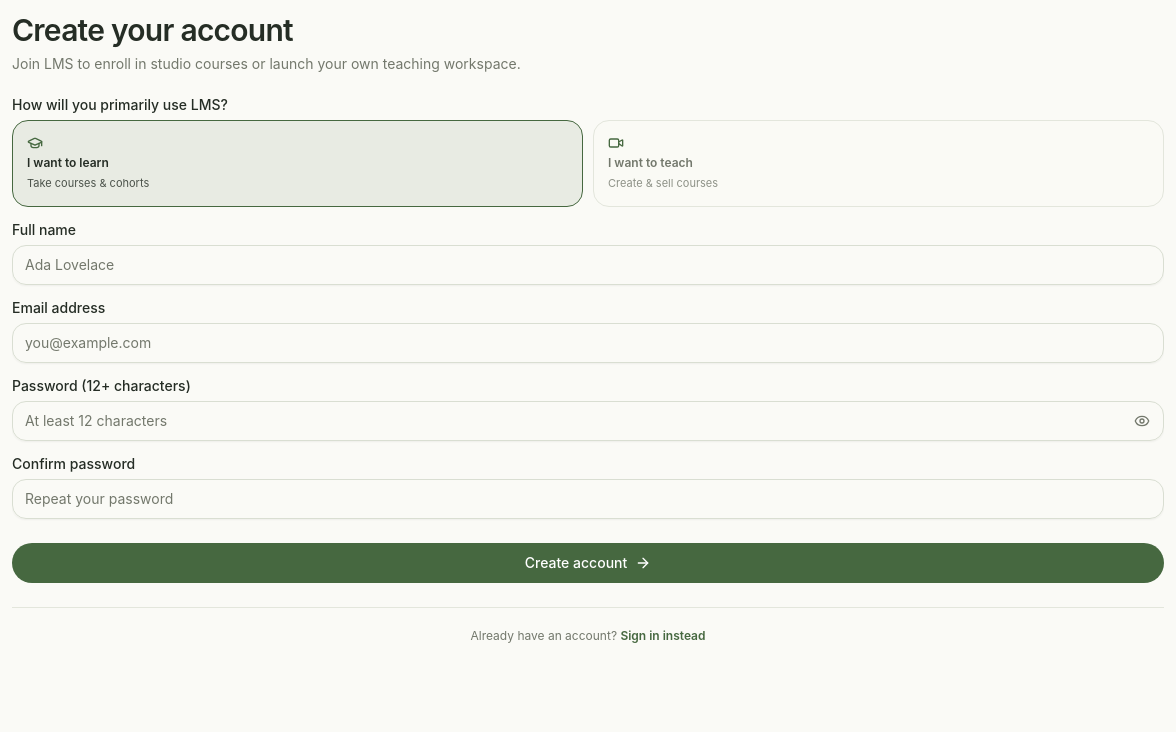
Test: Auth forms (Zod validation + TanStack Query mutations) › renders AuthErrorBanner on 400 validation error without navigating or confirming
Type "Alex Mercer" into the field labelled "Full name" at (588, 264), box left=12, top=244, right=1164, bottom=284
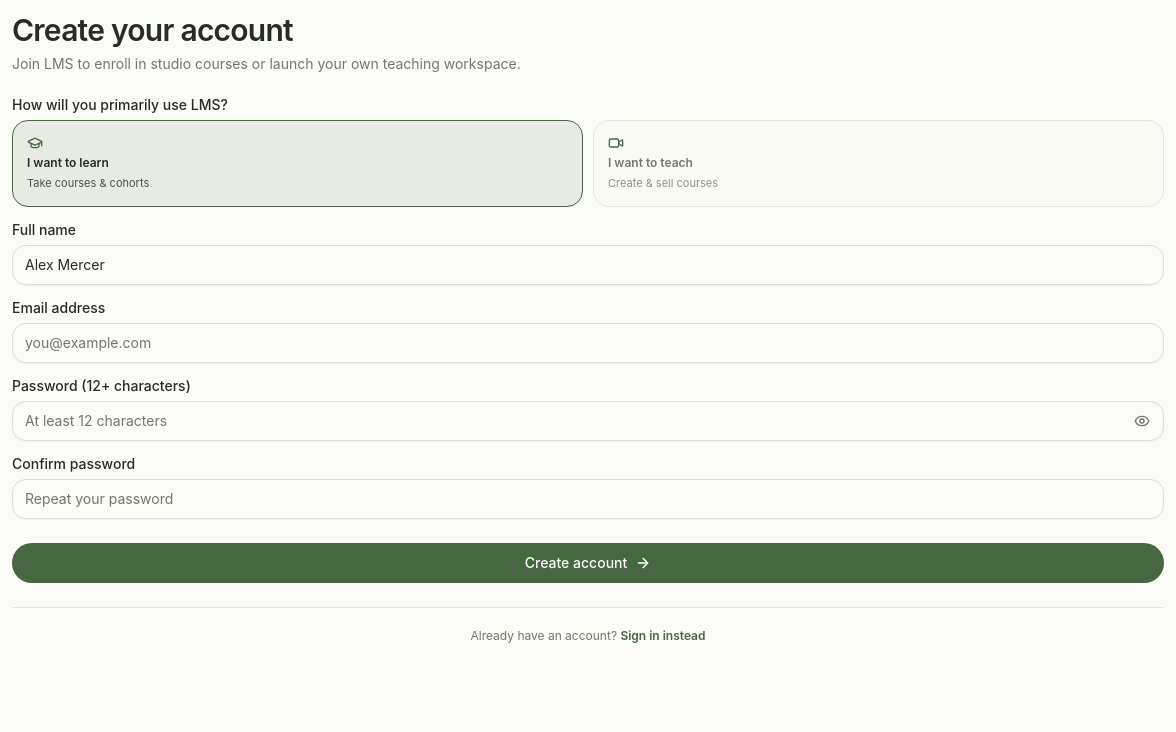
Type "alex@example.com" into the field labelled "Email address" at (588, 342), box left=12, top=322, right=1164, bottom=362
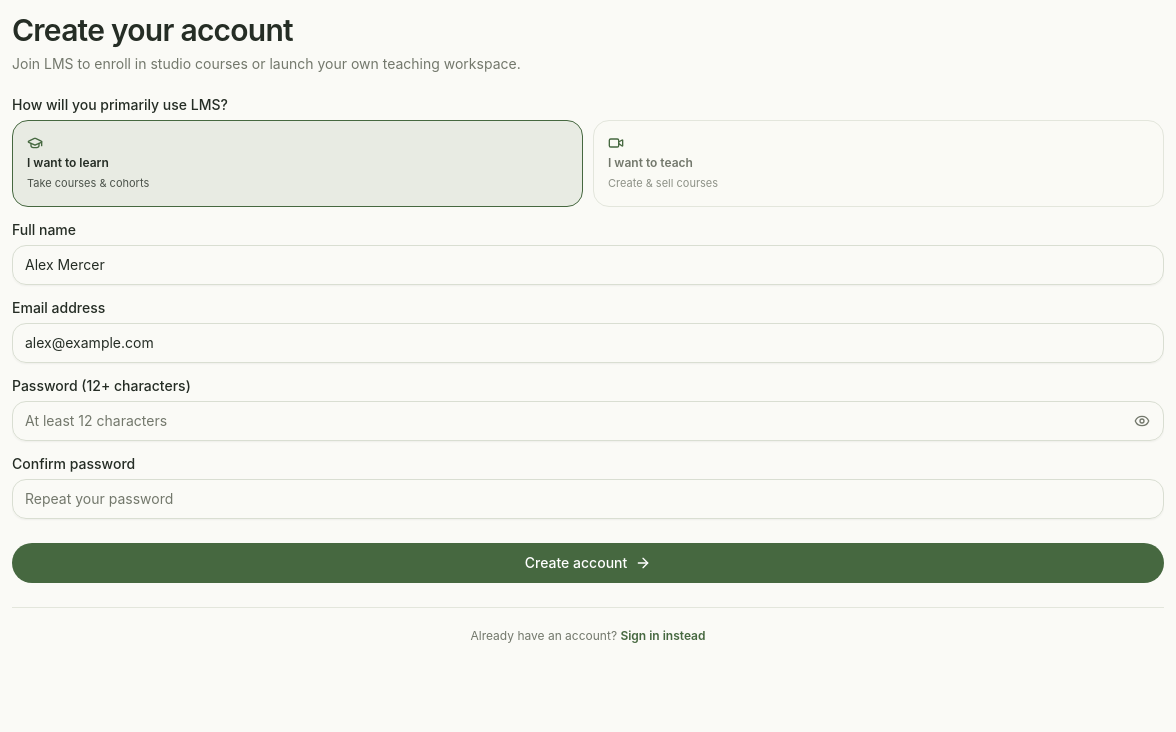
Type "super-secure-passphrase-2026" into the password field labelled "Password (12+ characters)" at (588, 420), box left=12, top=400, right=1164, bottom=440
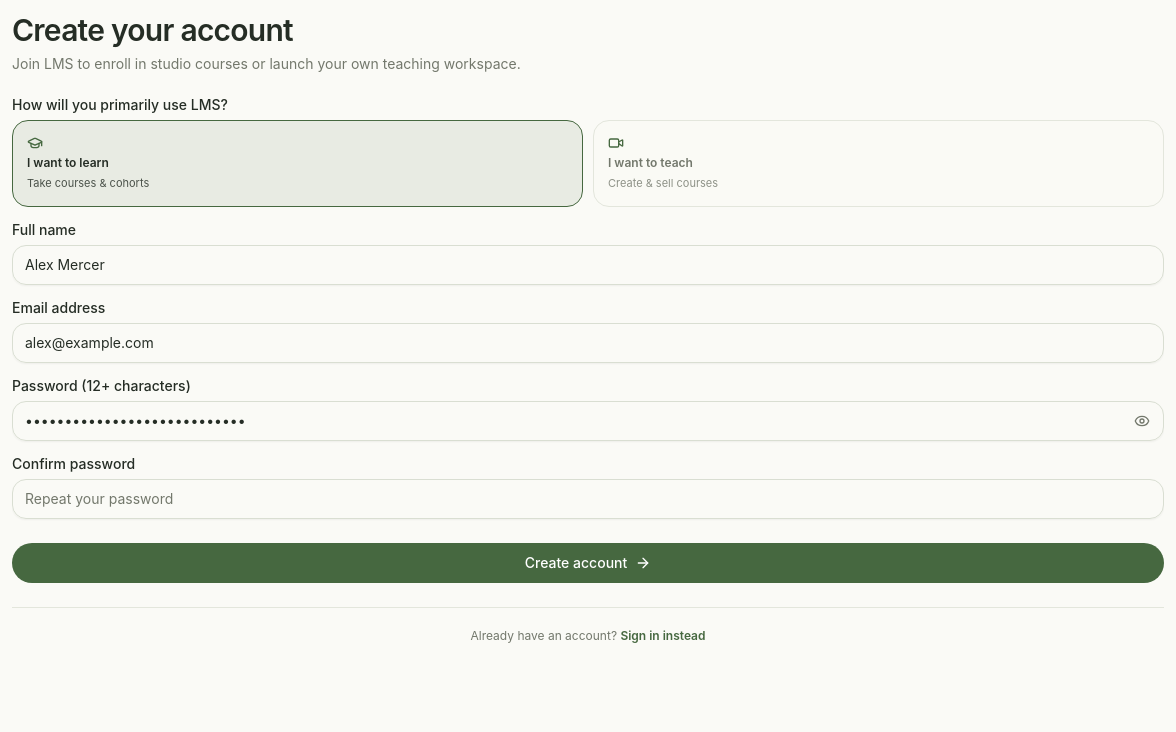
Type "super-secure-passphrase-2026" into the password field labelled "Confirm password" at (588, 498), box left=12, top=478, right=1164, bottom=518
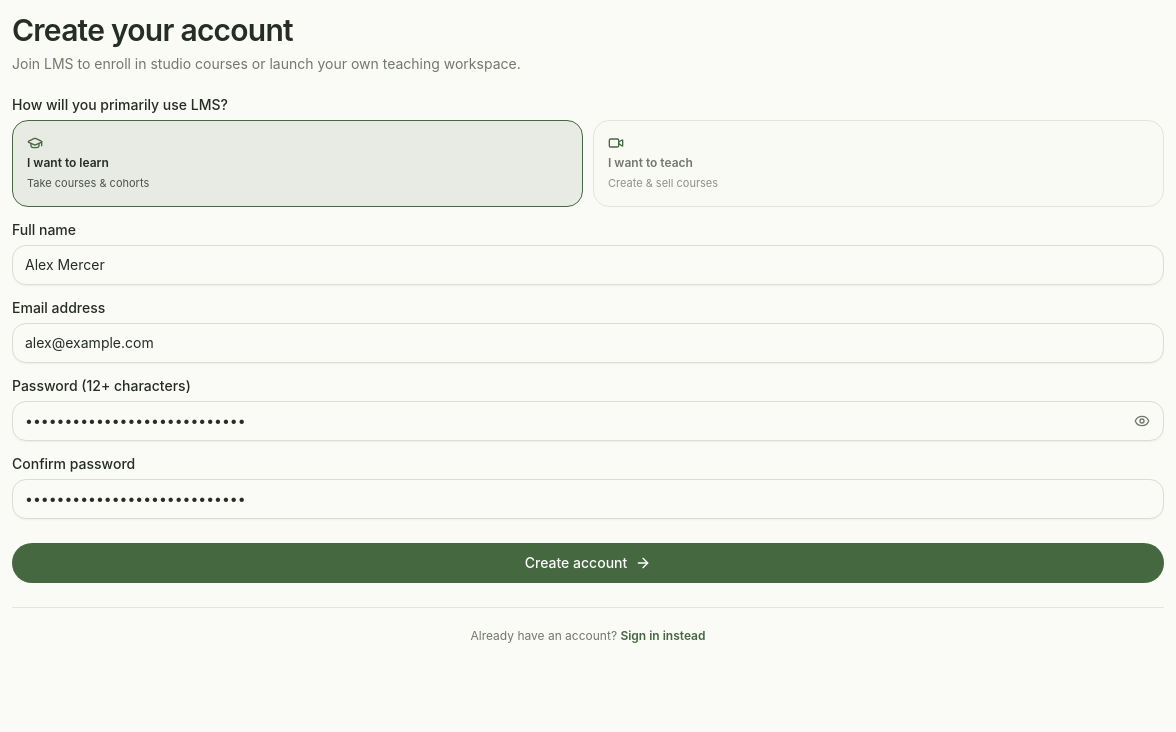
Click the button "Create account" at (588, 562), box left=12, top=542, right=1164, bottom=582
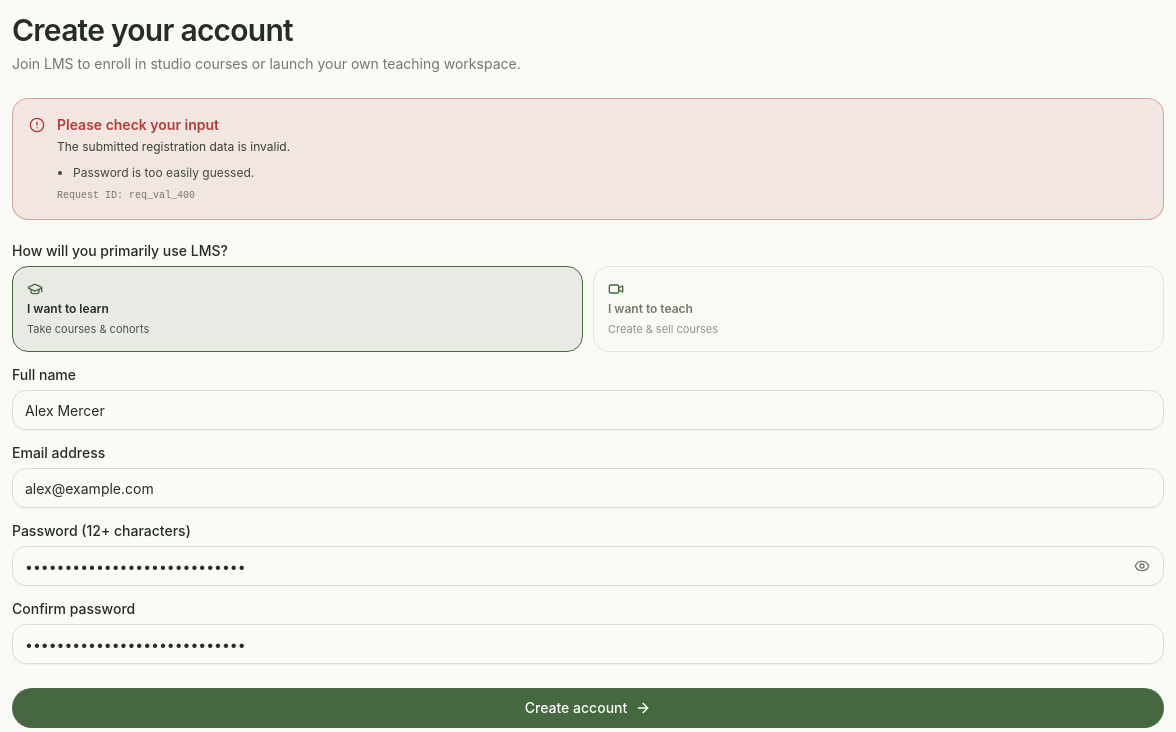
expect the message shows "Please check your input": met, box left=57, top=116, right=219, bottom=133
expect the message shows "The submitted registration data is invalid.": met, box left=57, top=139, right=290, bottom=154
expect the message shows "Password is too easily guessed.": met, box left=73, top=164, right=254, bottom=180
